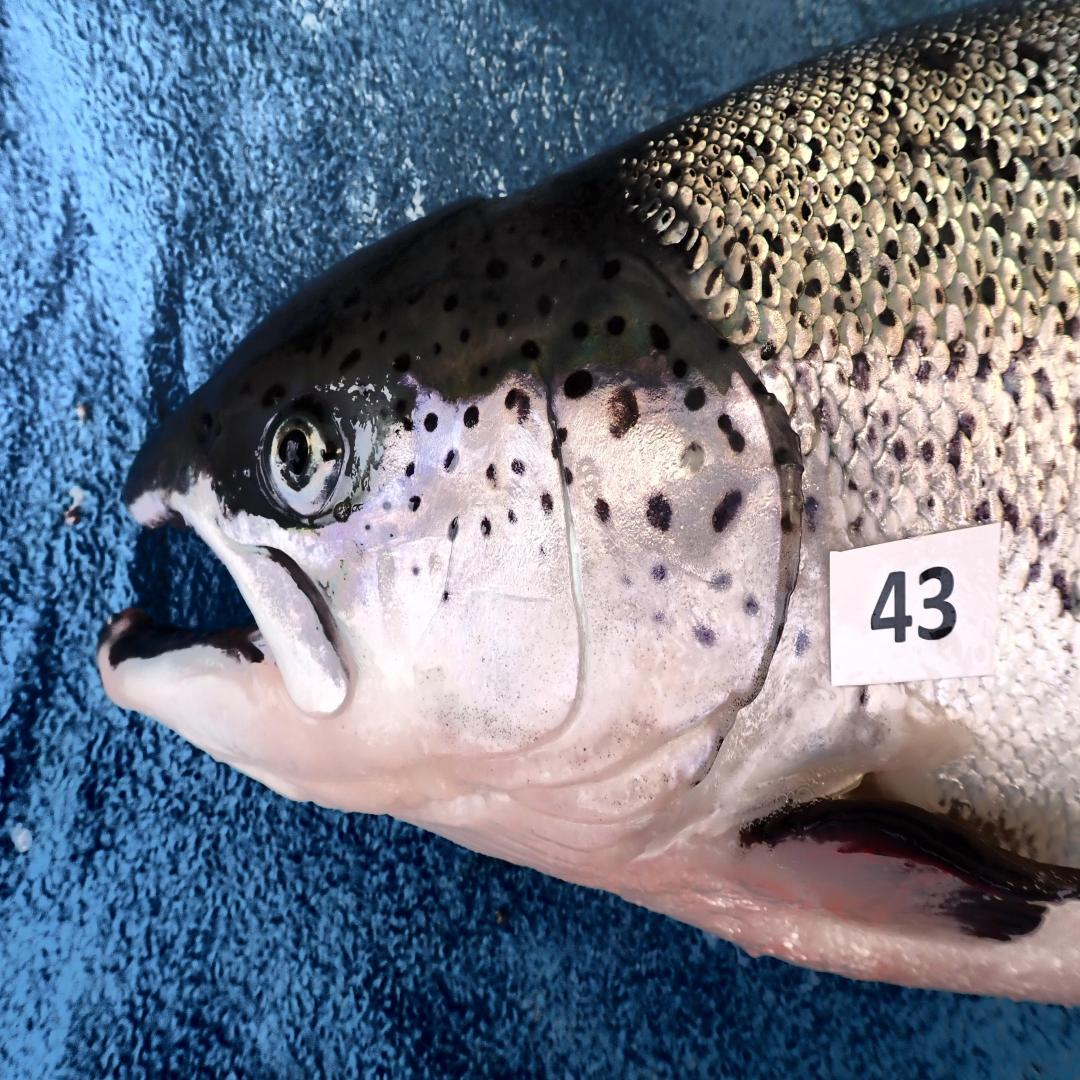spot: (610, 388, 639, 439), (713, 489, 742, 532), (717, 413, 745, 453), (645, 492, 673, 532), (504, 388, 532, 425), (563, 368, 593, 399), (679, 442, 705, 475), (648, 602, 671, 636), (616, 568, 635, 602), (683, 385, 707, 411), (694, 624, 715, 647), (709, 571, 732, 591), (443, 447, 460, 472), (595, 498, 610, 523), (485, 464, 500, 489), (551, 439, 563, 470), (464, 405, 479, 428), (447, 518, 460, 543), (745, 593, 759, 616), (652, 562, 667, 582), (424, 413, 439, 433), (510, 458, 525, 475), (542, 492, 553, 515), (774, 447, 788, 464), (409, 495, 422, 512), (563, 467, 574, 487), (781, 512, 792, 532), (481, 518, 491, 537), (506, 509, 519, 523), (557, 428, 567, 444), (405, 461, 416, 475), (403, 416, 413, 430), (383, 501, 391, 510), (443, 591, 449, 602), (413, 567, 419, 576), (365, 524, 371, 530)
